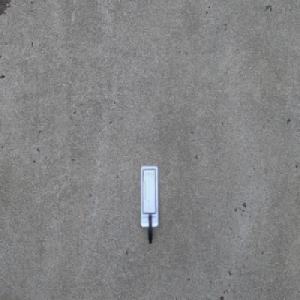LuggageTag: (139, 164, 159, 245)
